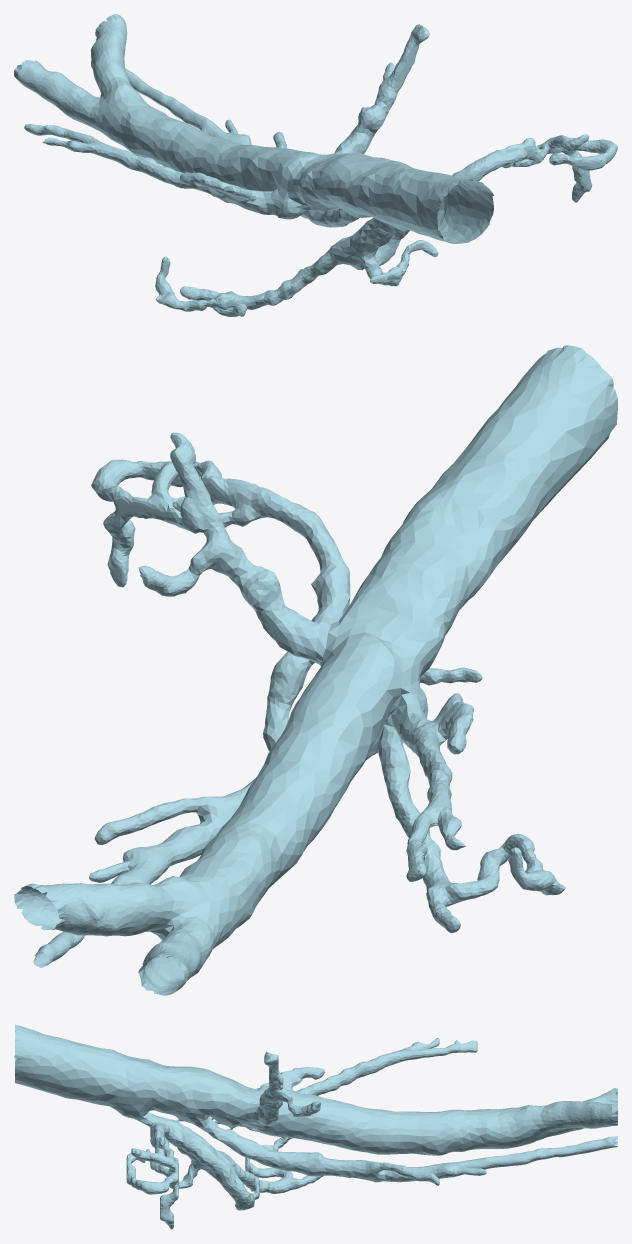
File: artery.obj
3 views of the same model, one above another, from view 1: azimuth 30°, elevation 25°; view 2: azimuth 150°, elevation 25°; view 3: azimuth 270°, elevation 25° (orthographic). The views are drawn at different scales.
Visible parts, largest first — view 1: grp1; view 2: grp1; view 3: grp1.
Boxes of the visible parts, x1=… form: grp1: x1=14, y1=14, x2=617, y2=316; grp1: x1=14, y1=345, x2=617, y2=995; grp1: x1=14, y1=1024, x2=617, y2=1229.
Size of the model in its own units: 135 by 79.09 by 204.
